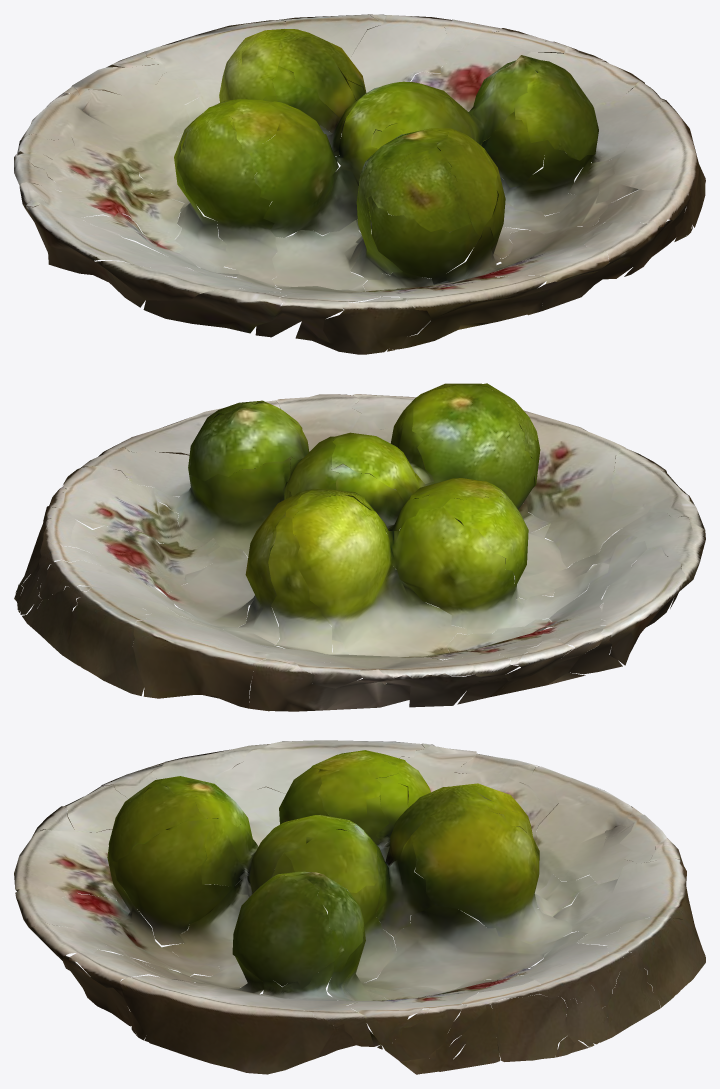
Rendered from limones_baked.glb.
3 renders of one model, top to bottom at view 1: azimuth 30°, elevation 25°; view 2: azimuth 150°, elevation 25°; view 3: azimuth 270°, elevation 25°, orthographic. The views are drawn at different scales.
Visible parts, largest first — view 1: Mesh_0; view 2: Mesh_0; view 3: Mesh_0.
Boxes of the visible parts, x1,y1,x2,y2 form: Mesh_0: [14, 14, 705, 354]; Mesh_0: [14, 383, 705, 711]; Mesh_0: [14, 740, 705, 1074].
Size of the model in its own units: 2.53 by 0.565 by 2.56.
1 material, 1 textured.
